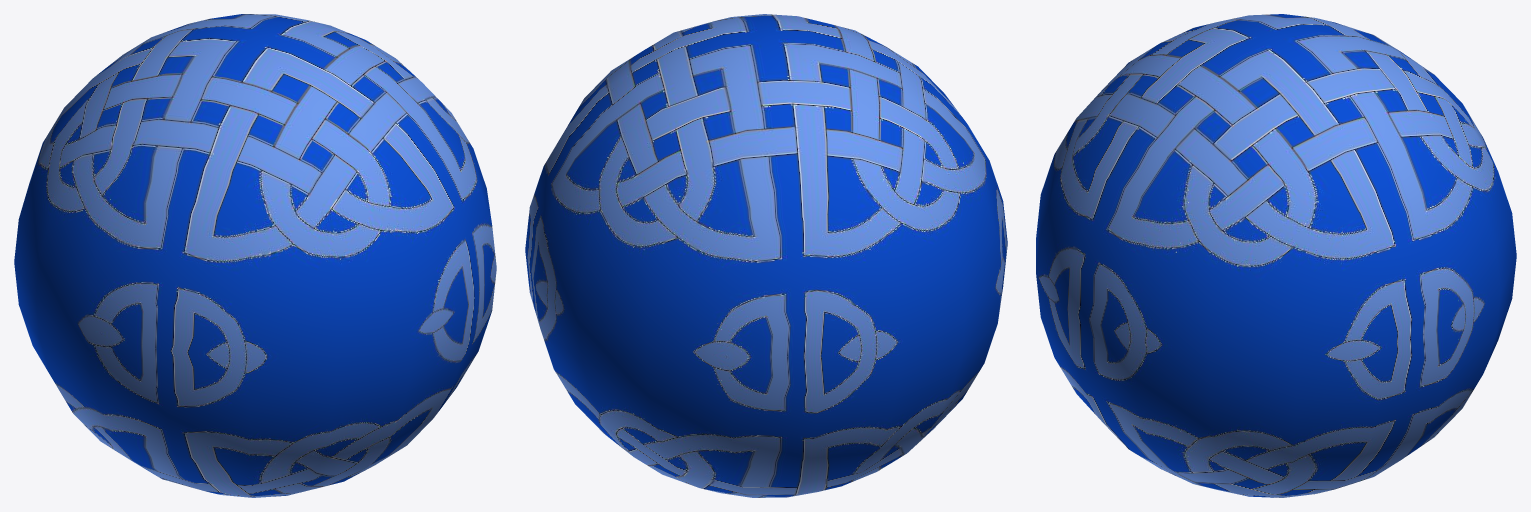
File: tesst ball -2.fbx
3 views of the same model, side by side, from view 1: azimuth 30°, elevation 25°; view 2: azimuth 150°, elevation 25°; view 3: azimuth 270°, elevation 25° (orthographic).
Parts seen in each view (by area): view 1: Sphere; view 2: Sphere; view 3: Sphere.
Boxes of the visible parts, box(x1,y1,x2,y2) form: Sphere: box(14, 14, 496, 497); Sphere: box(525, 14, 1007, 497); Sphere: box(1036, 14, 1516, 497).
Bounding box in the file's own units: 199 × 200 × 198.
1 material, 1 textured.
